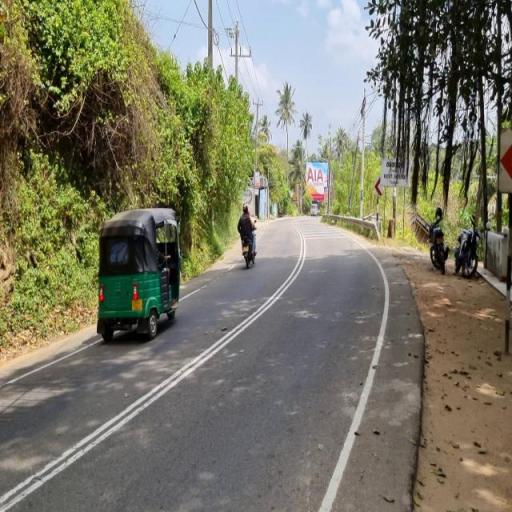double_white_line: (0, 221, 305, 512)
